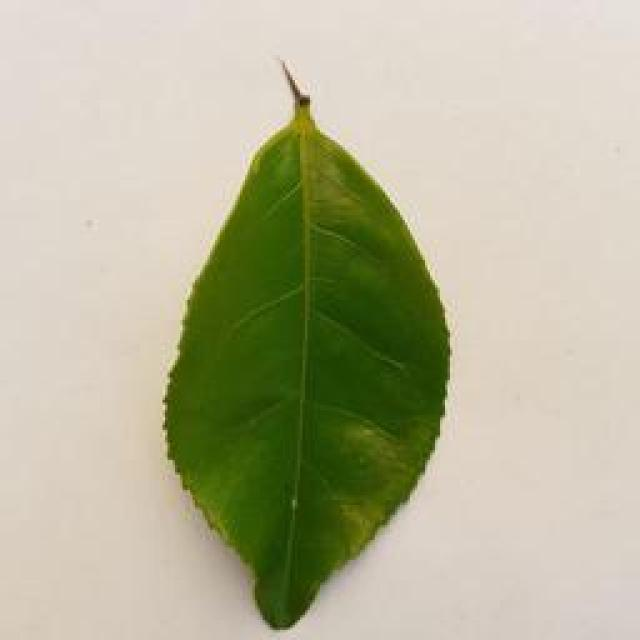Healthy: (160, 70, 454, 629)
